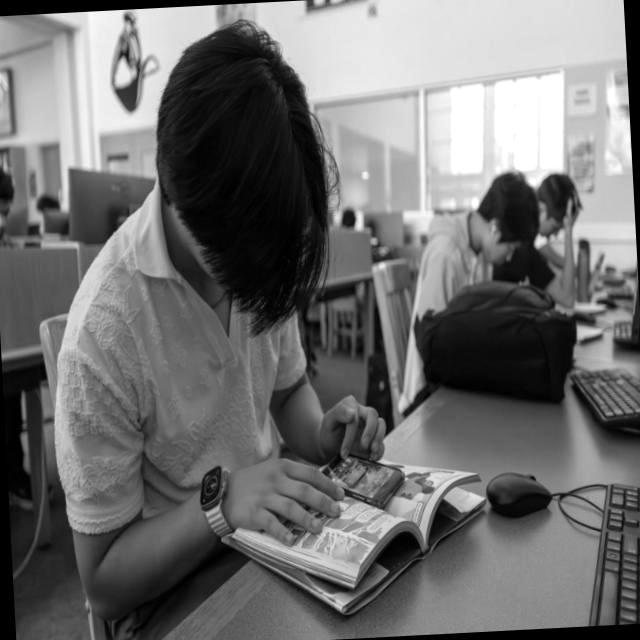phone: (316, 448, 408, 514)
